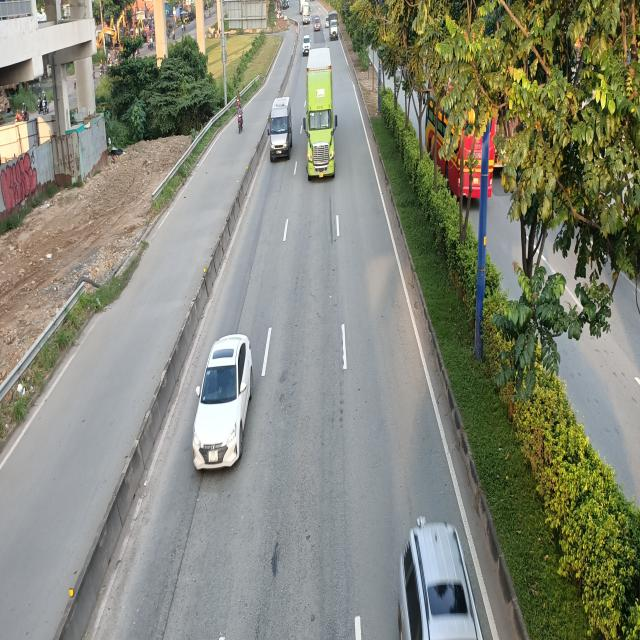car: (397, 519, 495, 639), (194, 335, 258, 473)
container: (303, 46, 337, 178)
truck: (328, 11, 339, 41)
van: (268, 99, 294, 164)
